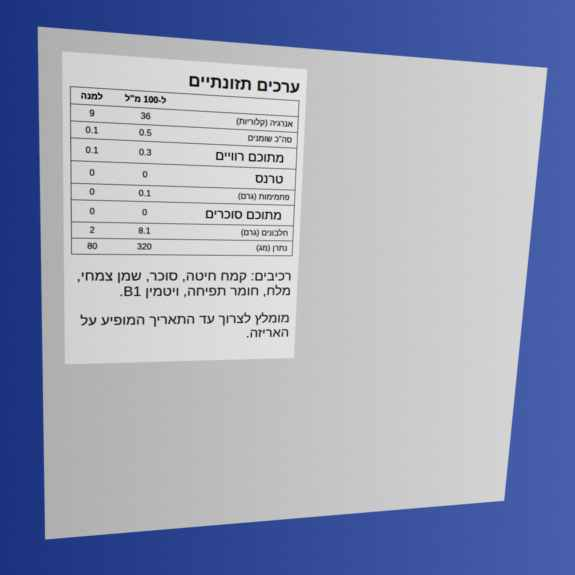carbs: (138, 188, 152, 199)
energy: (139, 110, 152, 122)
fat: (138, 127, 153, 139)
protein: (137, 225, 152, 236)
